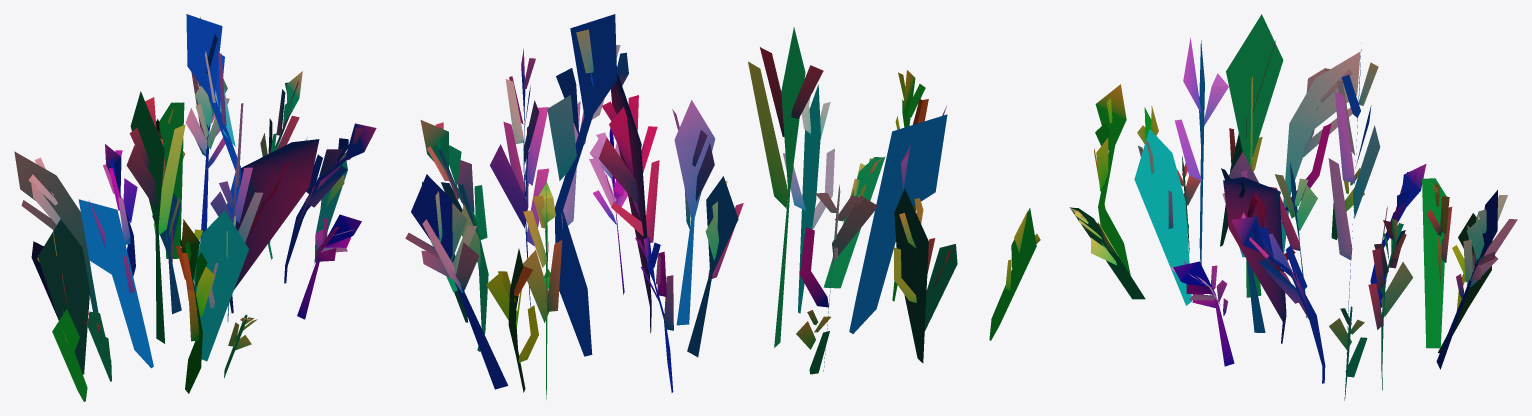
The model's file is Nordic_Coastal_Groundcover_vlqkdeaja_Mid_vlqkdeaja_VarH_LOD2.fbx.
3 views of the same model, side by side, from view 1: azimuth 30°, elevation 25°; view 2: azimuth 150°, elevation 25°; view 3: azimuth 270°, elevation 25° (orthographic). The views are drawn at different scales.
Parts seen in each view (by area): view 1: _f2pz_VarH_LOD4; view 2: _f2pz_VarH_LOD4; view 3: _f2pz_VarH_LOD4.
Boxes of the visible parts, x1,y1,x2,y2 form: _f2pz_VarH_LOD4: (14,14,376,401); _f2pz_VarH_LOD4: (405,14,1040,399); _f2pz_VarH_LOD4: (1069,14,1517,400).
Bounding box in the file's own units: 130 × 89.55 × 121.
